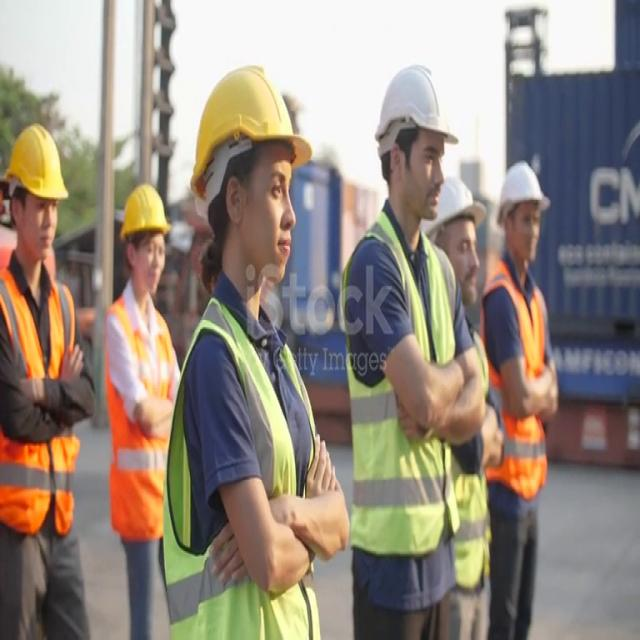capacete: (184, 65, 318, 202), (354, 42, 466, 166), (3, 105, 77, 210), (409, 169, 503, 246), (494, 151, 559, 233), (118, 170, 180, 254)
